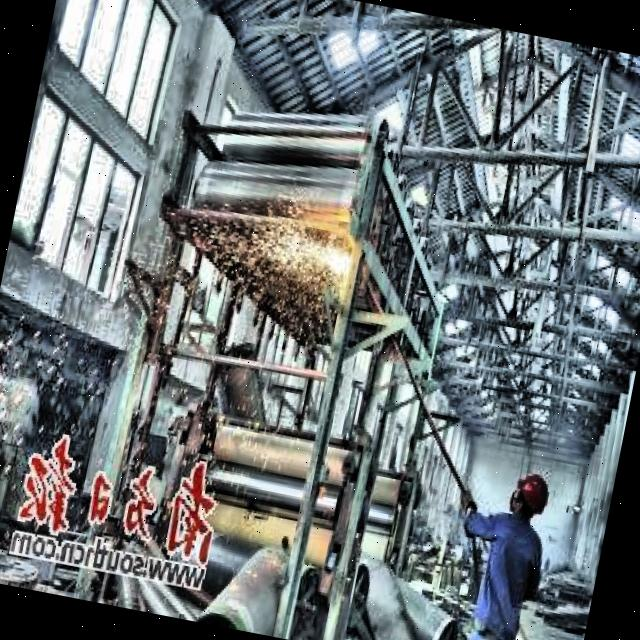helmet: (507, 468, 552, 522)
